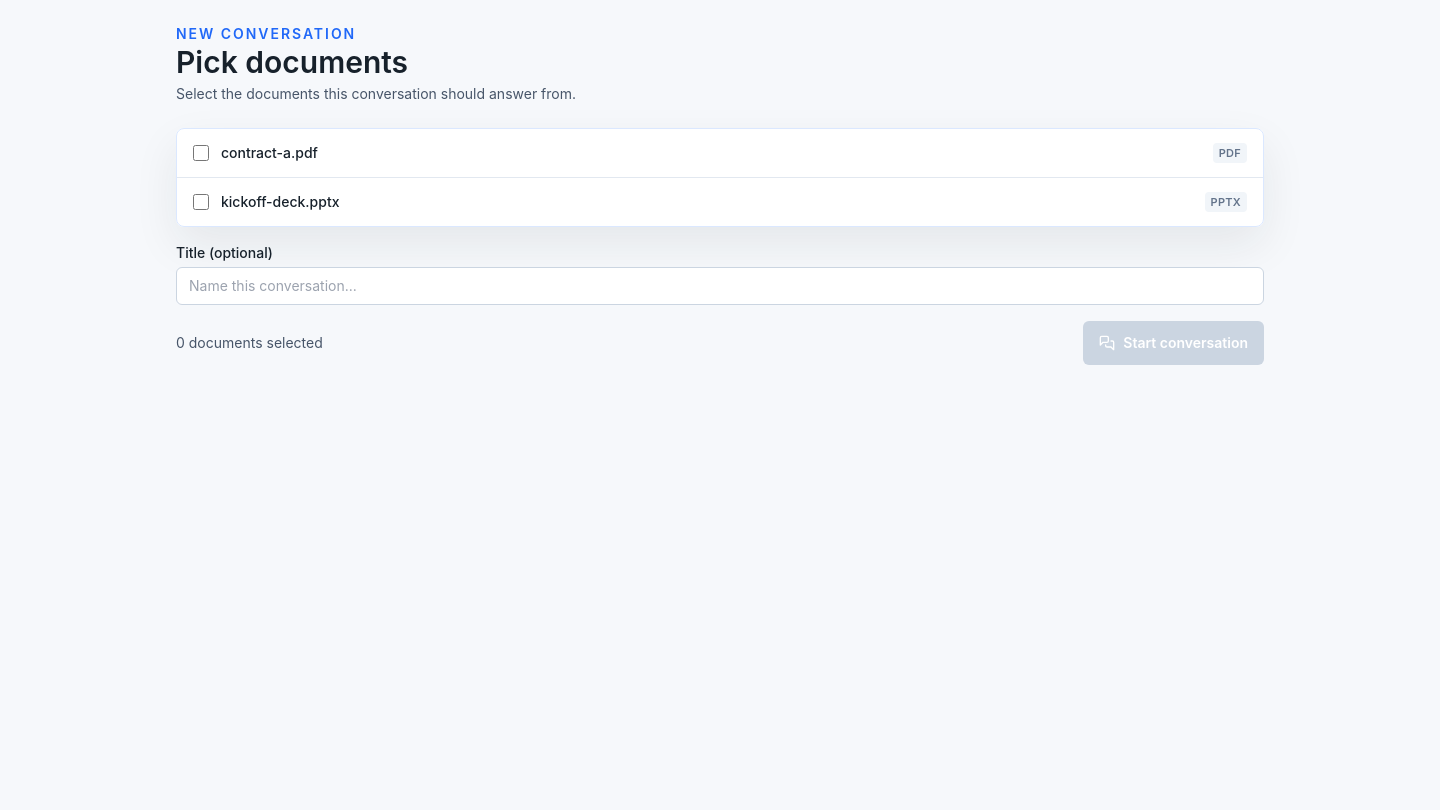
ScopePicker › shows an upgrade dialog when a free user tries to add a second document
Click the checkbox labelled "contract-a.pdf pdf": (201, 153) [193,145,209,161]
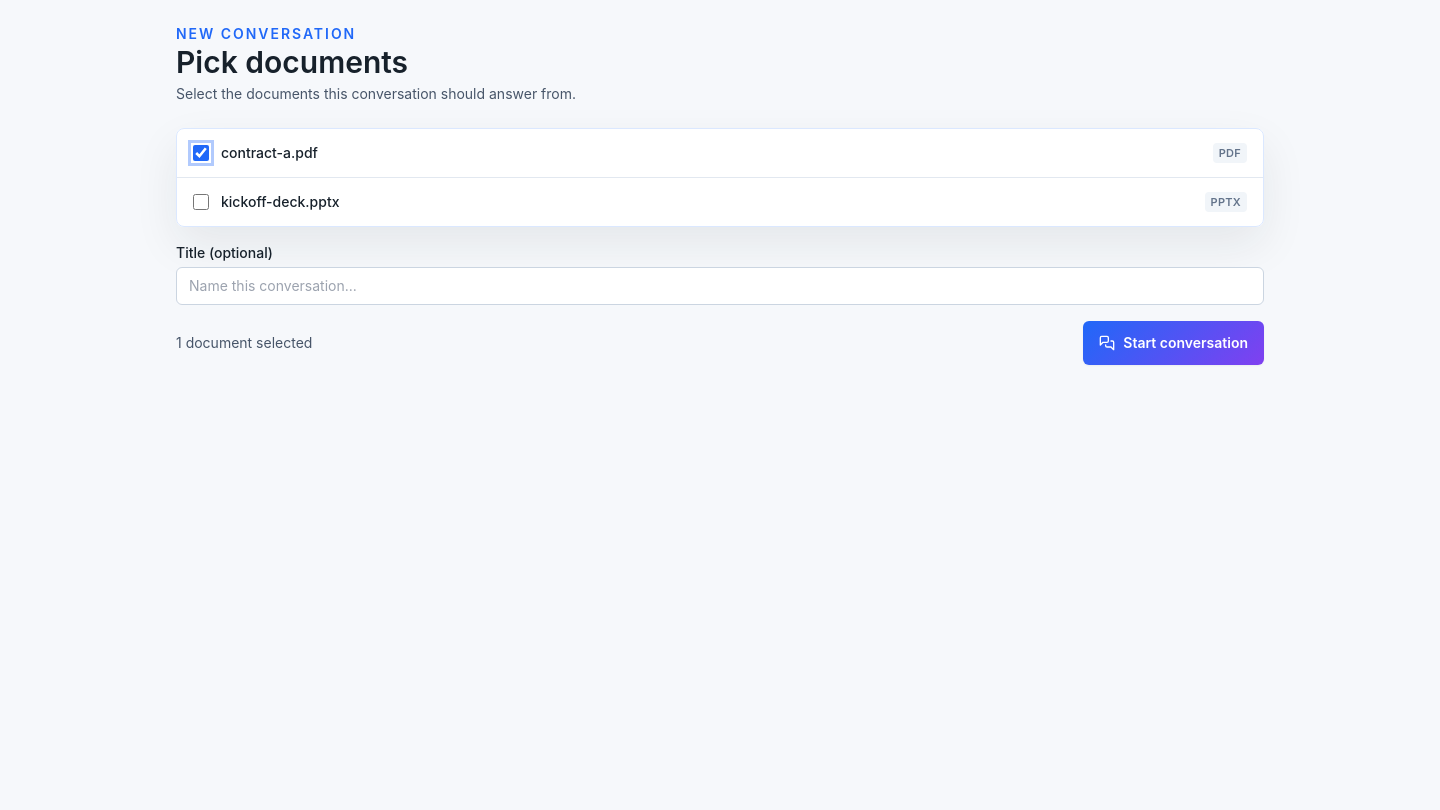
Click the checkbox labelled "kickoff-deck.pptx pptx": (201, 202) [193,194,209,210]
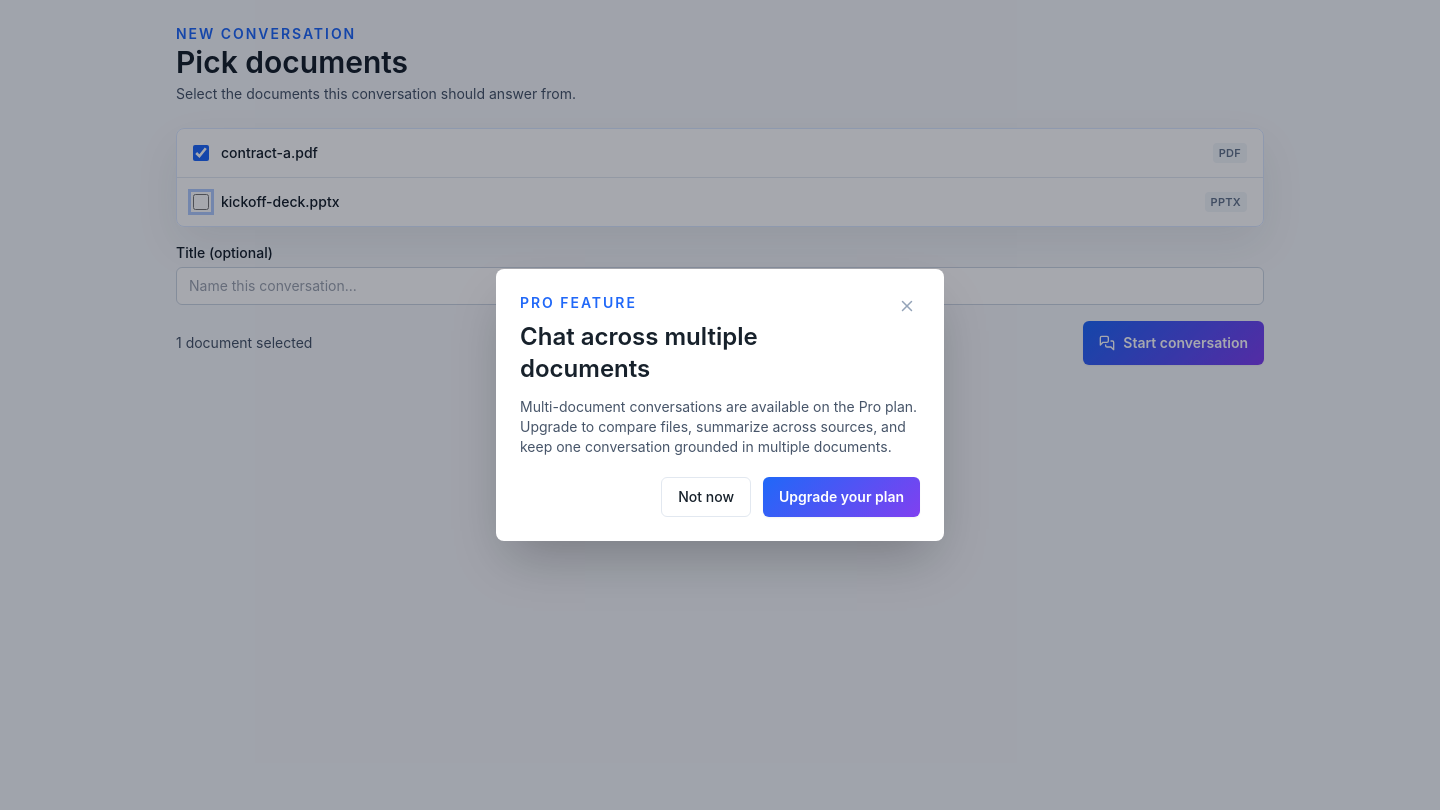
Now the checkbox labelled "contract-a.pdf pdf" is checked, box [193,145,209,161]
Now the dialog named "upgrade for multi-document chat" is shown, box [496,269,944,541]
Now the text "Multi-document conversations are available on the Pro plan" is shown, box [520,398,917,455]
